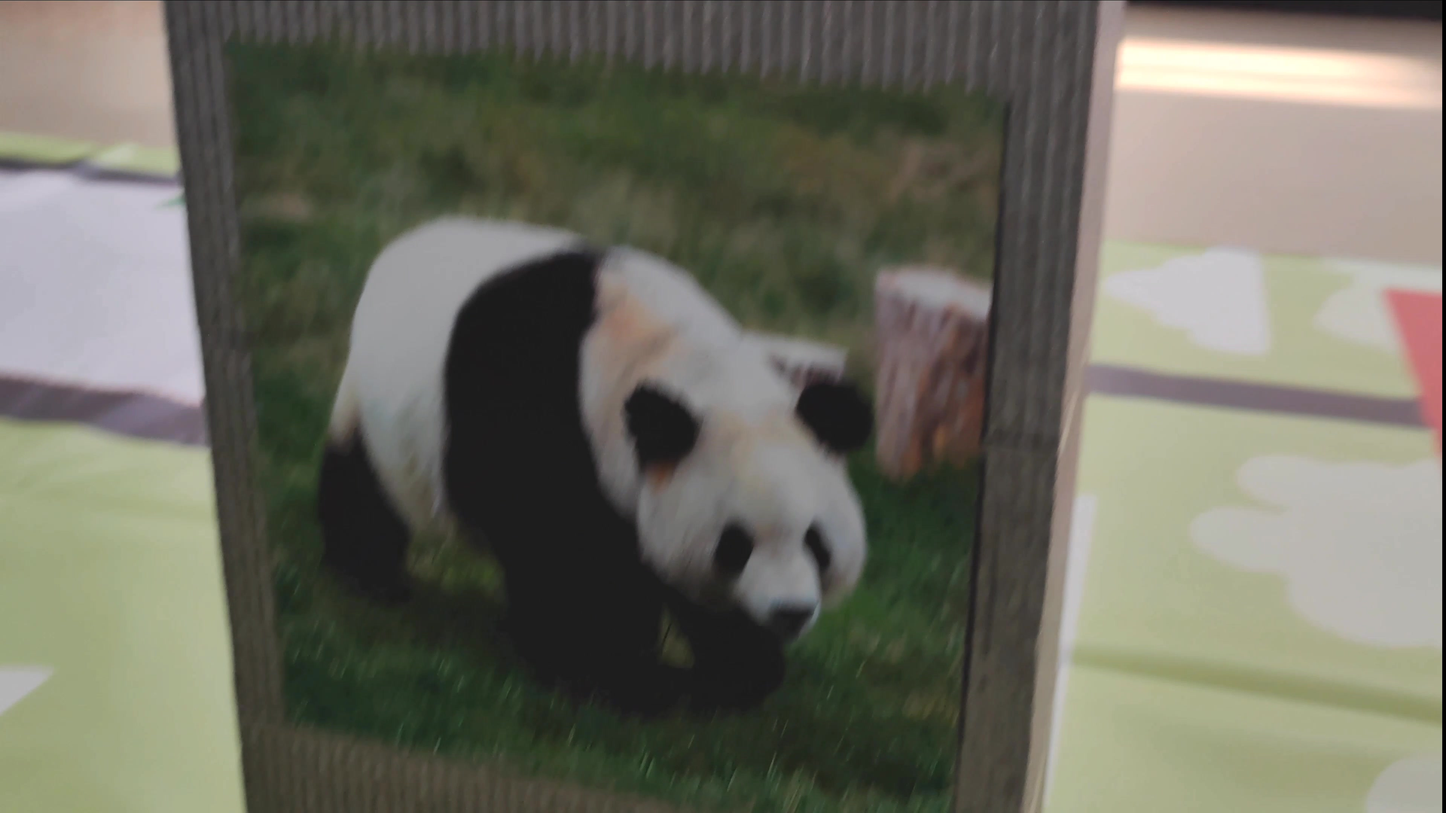panda: (294, 170, 866, 701)
